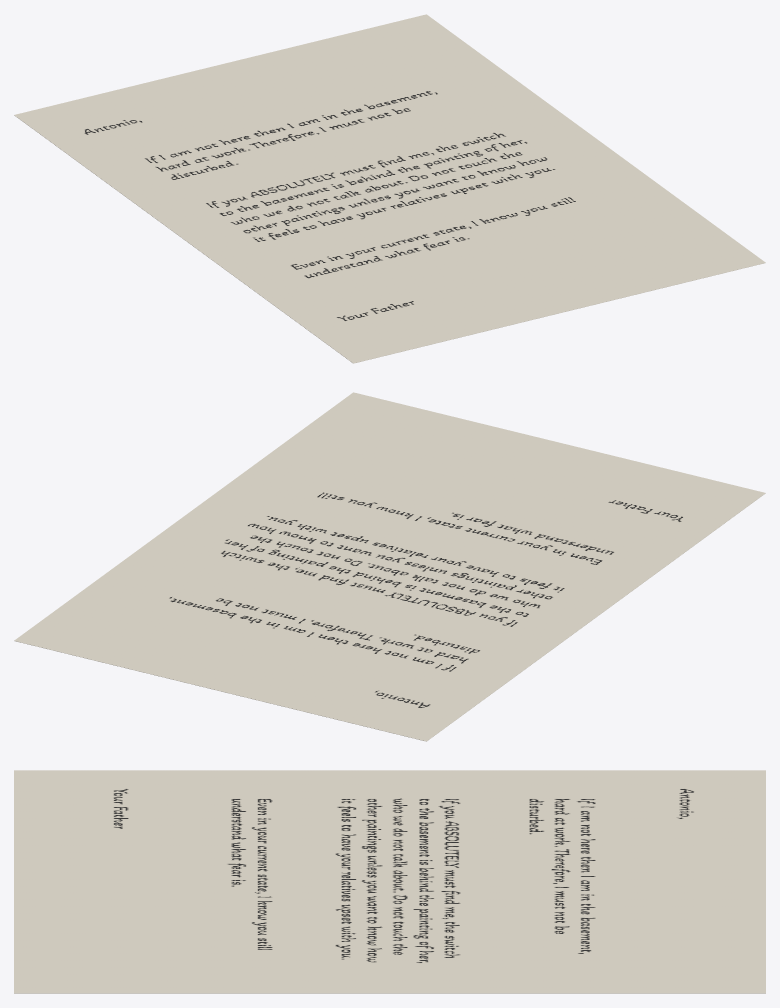
File: To-Antonio.fbx
3 renders of one model, top to bottom at view 1: azimuth 30°, elevation 25°; view 2: azimuth 150°, elevation 25°; view 3: azimuth 270°, elevation 25°, orthographic. The views are drawn at different scales.
Parts seen in each view (by area): view 1: Paper; view 2: Paper; view 3: Paper, THickness.
Part boxes in pixels (<box>): Paper: <box>14,14,765,363</box>; Paper: <box>14,392,765,741</box>; Paper: <box>14,770,765,993</box>; THickness: <box>14,993,765,993</box>.
Bounding box in the file's own units: 51.12 × 0.026 × 72.84.
Materials: 2 (2 with a texture image).
